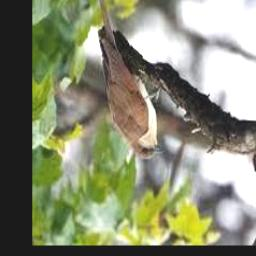Cuckoo: (95, 0, 163, 160)
